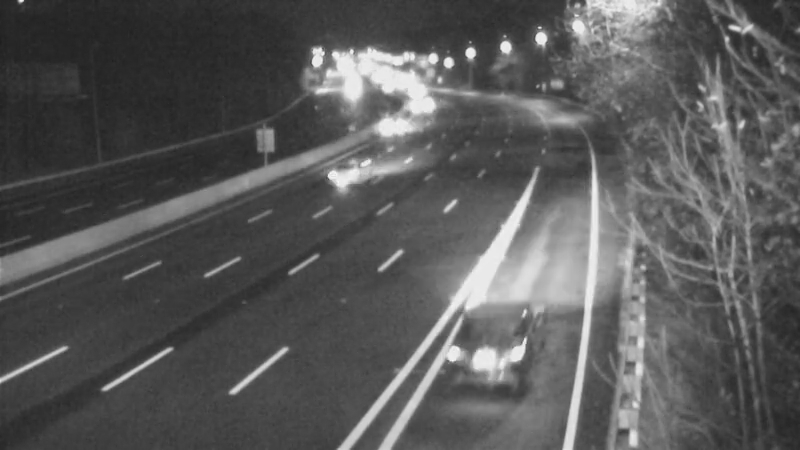vehicle: (428, 302, 538, 412), (312, 129, 392, 209), (391, 68, 441, 118), (398, 82, 448, 132), (364, 102, 414, 152)
